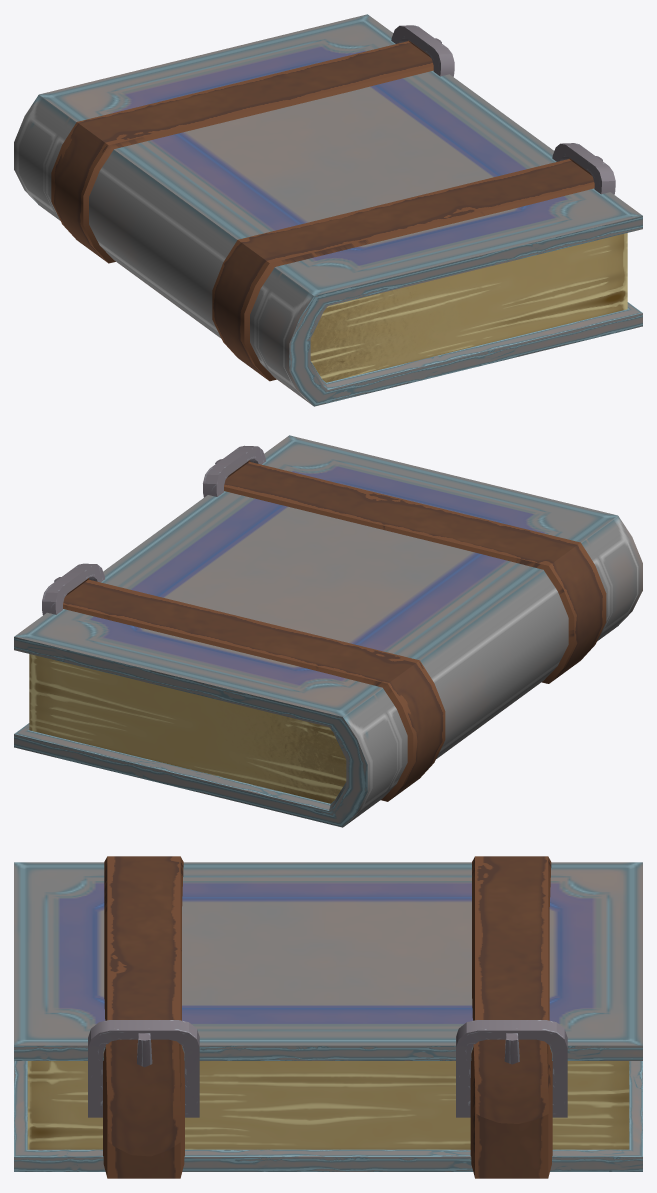
Rendered from Book_2.fbx.
3 renders of one model, top to bottom at view 1: azimuth 30°, elevation 25°; view 2: azimuth 150°, elevation 25°; view 3: azimuth 270°, elevation 25°, orthographic. The views are drawn at different scales.
Visible parts, largest first — view 1: Book_2; view 2: Book_2; view 3: Book_2.
Boxes of the visible parts, bbox=[...] form: Book_2: bbox=[14, 14, 642, 406]; Book_2: bbox=[14, 435, 642, 827]; Book_2: bbox=[14, 856, 642, 1178].
Bounding box in the file's own units: 22.69 × 7.73 × 28.71.
